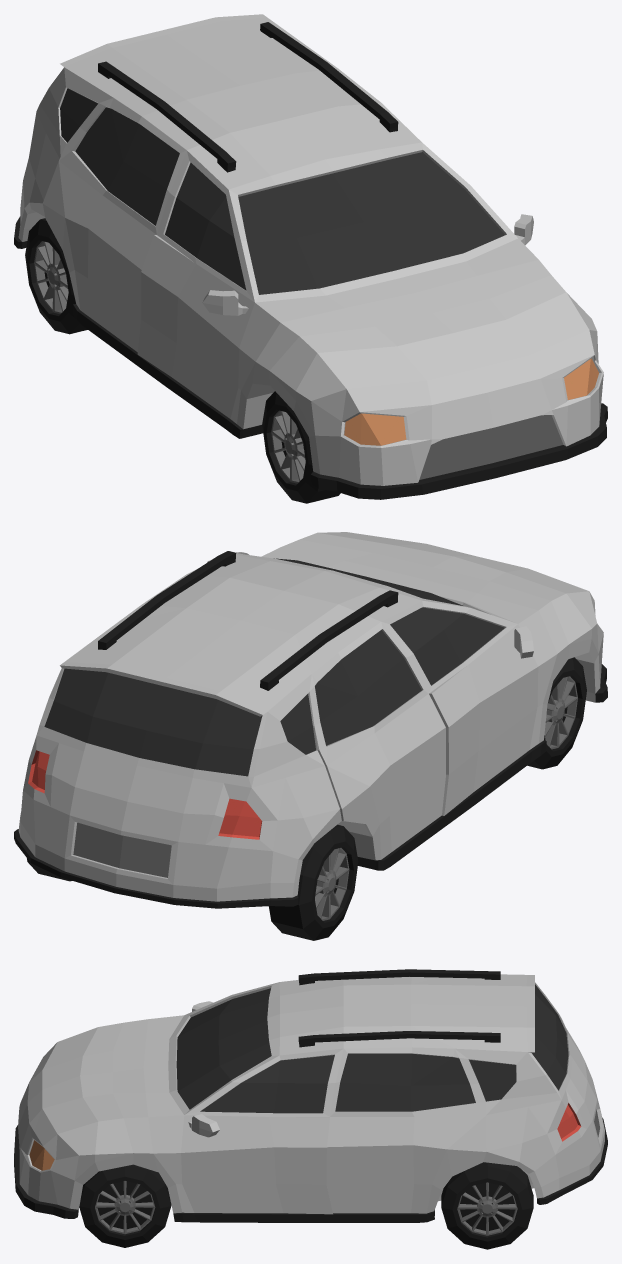
The model's file is traffic-suv-lod0.glb.
3 views of the same model, one above another, from view 1: azimuth 30°, elevation 25°; view 2: azimuth 150°, elevation 25°; view 3: azimuth 270°, elevation 25° (orthographic). The views are drawn at different scales.
Visible parts, largest first — view 1: SUV_Cube; view 2: SUV_Cube; view 3: SUV_Cube.
Boxes of the visible parts, box(x1,y1,x2,y2) form: SUV_Cube: box(14, 14, 607, 503); SUV_Cube: box(14, 532, 607, 940); SUV_Cube: box(14, 969, 607, 1249).
Bounding box in the file's own units: 2.11 × 1.53 × 4.21.
Materials: 1 (1 with a texture image).
